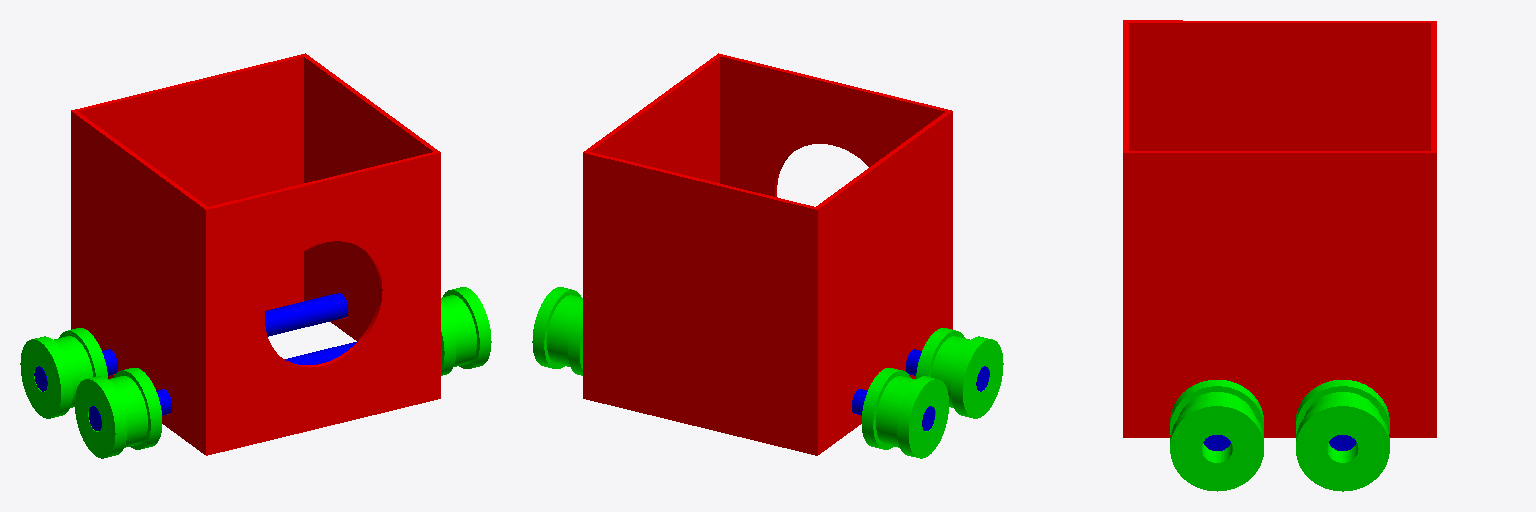
The robot description file, URDF, robot "car":
<?xml version="1.0"?>
<robot name="car">
 <link name="world"/>

 <link name="base_link">
  <visual>
   <geometry>
    <mesh filename="package://car_sim/stl/test_robot_body.stl"/>
   </geometry>
   <origin xyz="0 0 0" rpy="0 0 1.57"/>
   <material name="red">
    <color rgba="1 0 0 2"/>
   </material>
  </visual>
 </link>
 <joint name="base_link_joint" type="fixed">
  <origin xyz="0 0 1" rpy="0 0 0"/>
  <parent link="world"/>
  <child link="base_link"/>
 </joint>

 <link name="shaft_1">
  <visual>
   <geometry>
    <mesh filename="package://car_sim/stl/test_robot_shaft_2.stl"/>
   </geometry>
   <origin xyz="0 0 0" rpy="0 0 0"/>
   <material name="blue">
    <color rgba="0 0 1 2"/>
   </material>
  </visual>
 </link>
 <joint name="shaft_joint_1" type="continuous">
  <origin xyz="-0.08 -0.02 0.01" rpy="0 1.57 0"/>
  <parent link="base_link"/>
  <child link="shaft_1"/>
 </joint>

<link name="shaft_2">
  <visual>
   <geometry>
    <mesh filename="package://car_sim/stl/test_robot_shaft_2.stl"/>
   </geometry>
   <origin xyz="0 0 0" rpy="0 0 0"/>
   <material name="blue">
    <color rgba="0 0 1 2"/>
   </material>
  </visual>
 </link>
 <joint name="shaft_joint_2" type="continuous">
  <origin xyz="-0.08 0.02 0.01" rpy="0 1.57 0"/>
  <parent link="base_link"/>
  <child link="shaft_2"/>
 </joint>

<link name="wheel_1">
  <visual>
   <geometry>
    <mesh filename="package://car_sim/stl/test_robot_wheel.stl"/>
   </geometry>
   <origin xyz="0 0 0" rpy="0 0 0"/>
   <material name="green">
    <color rgba="0 1 0 2"/>
   </material>
  </visual>
 </link>
 <joint name="wheel_joint_1" type="fixed">
  <origin xyz="0 0 0.15" rpy="1.57 0 0"/>
  <parent link="shaft_1"/>
  <child link="wheel_1"/>
 </joint>

<link name="wheel_2">
  <visual>
   <geometry>
    <mesh filename="package://car_sim/stl/test_robot_wheel.stl"/>
   </geometry>
   <origin xyz="0 0 0" rpy="0 0 0"/>
   <material name="green">
    <color rgba="0 1 0 2"/>
   </material>
  </visual>
 </link>
 <joint name="wheel_joint_2" type="fixed">
  <origin xyz="0 0 0.01" rpy="1.57 0 0"/>
  <parent link="shaft_1"/>
  <child link="wheel_2"/>
 </joint>

<link name="wheel_3">
  <visual>
   <geometry>
    <mesh filename="package://car_sim/stl/test_robot_wheel.stl"/>
   </geometry>
   <origin xyz="0 0 0" rpy="0 0 0"/>
   <material name="green">
    <color rgba="0 1 0 2"/>
   </material>
  </visual>
 </link>
 <joint name="wheel_joint_3" type="fixed">
  <origin xyz="0 0 0.15" rpy="1.57 0 0"/>
  <parent link="shaft_2"/>
  <child link="wheel_3"/>
 </joint>

<link name="wheel_4">
  <visual>
   <geometry>
    <mesh filename="package://car_sim/stl/test_robot_wheel.stl"/>
   </geometry>
   <origin xyz="0 0 0" rpy="0 0 0"/>
   <material name="green">
    <color rgba="0 1 0 2"/>
   </material>
  </visual>
 </link>
 <joint name="wheel_joint_4" type="fixed">
  <origin xyz="0 0 0.01" rpy="1.57 0 0"/>
  <parent link="shaft_2"/>
  <child link="wheel_4"/>
 </joint>
               
</robot>

--- Facts derived from the render (not from the file) ---
3 views of the same robot in one strip: view 1: azimuth 30°, elevation 25°; view 2: azimuth 150°, elevation 25°; view 3: azimuth 270°, elevation 25° (orthographic).
Model car with 8 links and 7 joints (2 continuous, 5 fixed), rooted at world, posed every joint at zero.
Links seen in each view (by area): view 1: base_link, wheel_2, wheel_4, wheel_1, shaft_2, shaft_1; view 2: base_link, wheel_4, wheel_2, wheel_3, shaft_1, shaft_2; view 3: base_link, wheel_1, wheel_3.
Link boxes in pixels (bbox=[...]): base_link: bbox=[71, 53, 440, 455]; wheel_2: bbox=[75, 368, 161, 458]; wheel_4: bbox=[20, 328, 107, 418]; wheel_1: bbox=[441, 287, 491, 375]; shaft_2: bbox=[34, 293, 348, 391]; shaft_1: bbox=[89, 341, 357, 430]; base_link: bbox=[583, 53, 952, 455]; wheel_4: bbox=[862, 368, 948, 458]; wheel_2: bbox=[916, 328, 1003, 418]; wheel_3: bbox=[532, 287, 582, 375]; shaft_1: bbox=[906, 349, 989, 391]; shaft_2: bbox=[852, 389, 934, 430]; base_link: bbox=[1123, 20, 1436, 437]; wheel_1: bbox=[1170, 380, 1263, 491]; wheel_3: bbox=[1296, 380, 1389, 491].
Bounding box of the posed robot: 0.16 × 0.1001 × 0.105 m (x, y, z).
7 mesh visuals loaded from 3 distinct referenced files (3 binary STL).